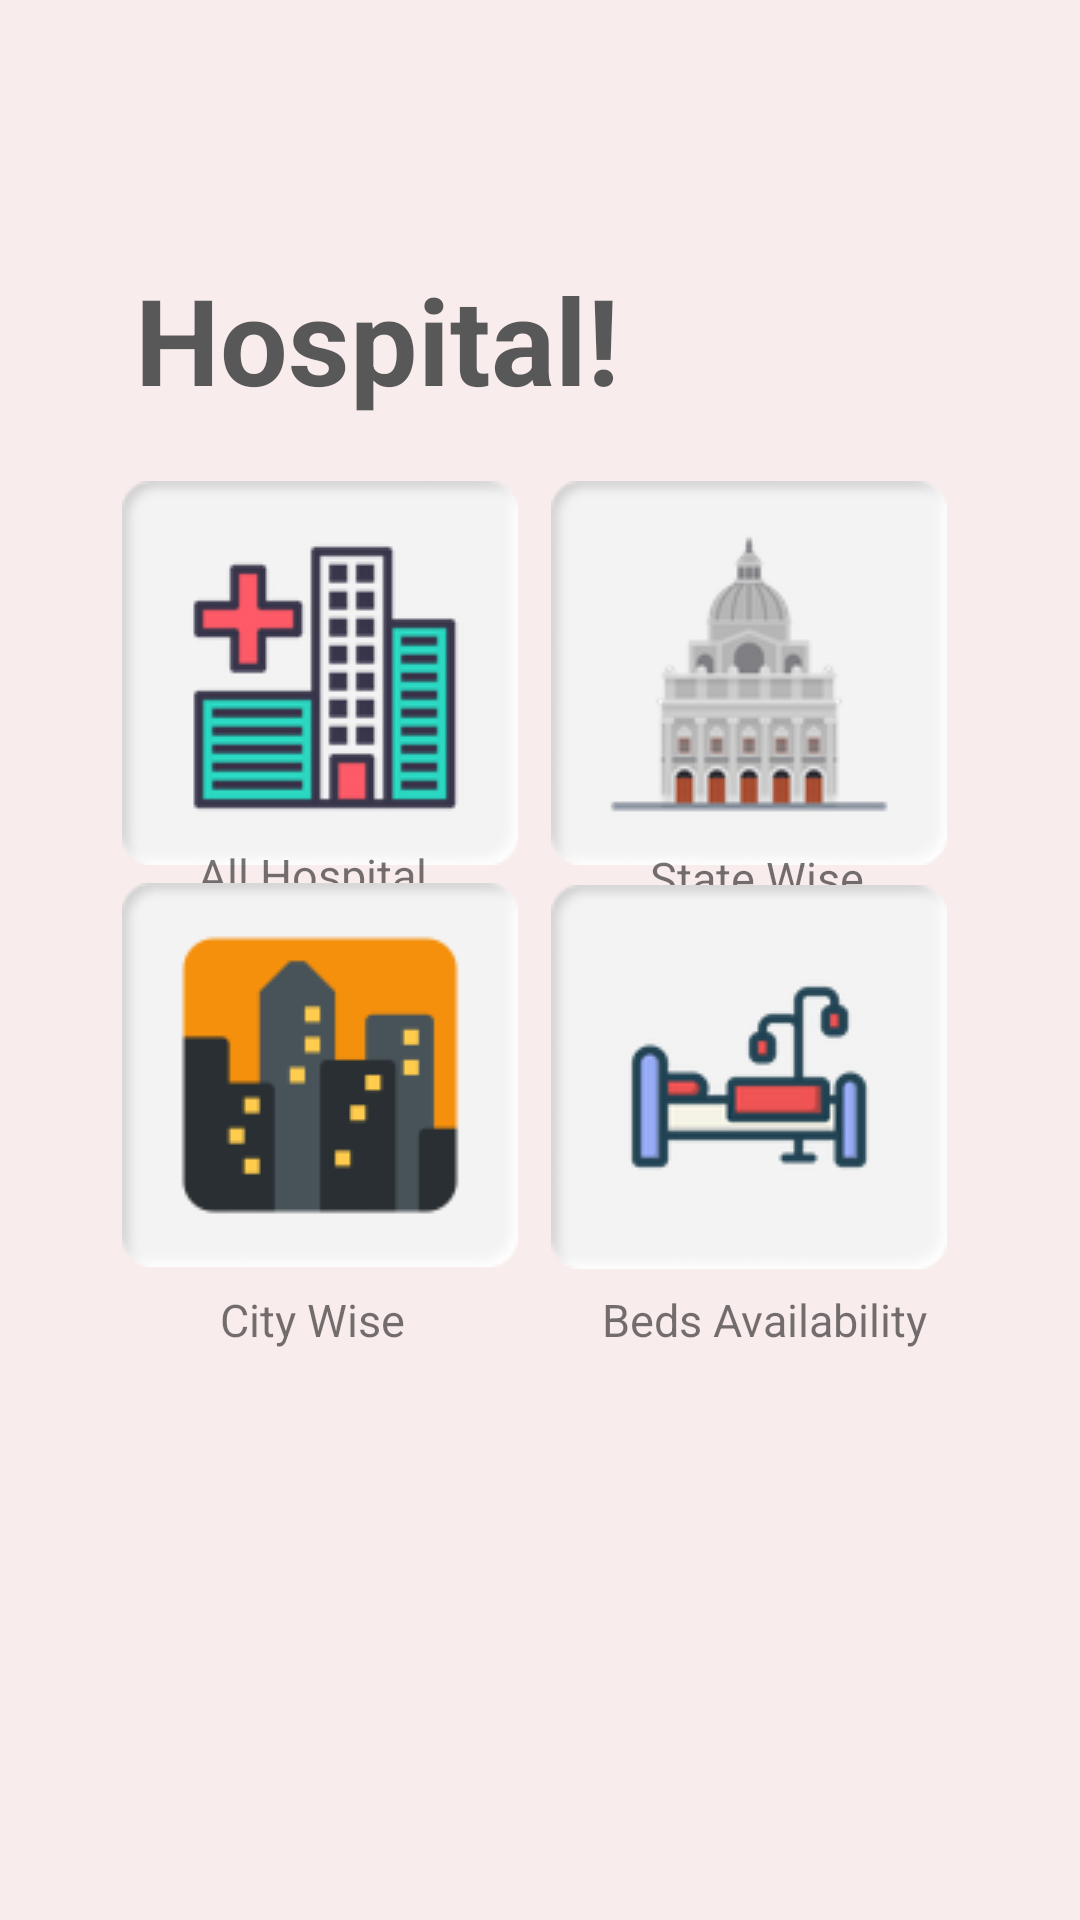

Where to tap for icons on this 1080×1920 app screen, as point (x, y):
hospitalbed: point (749, 1077)
